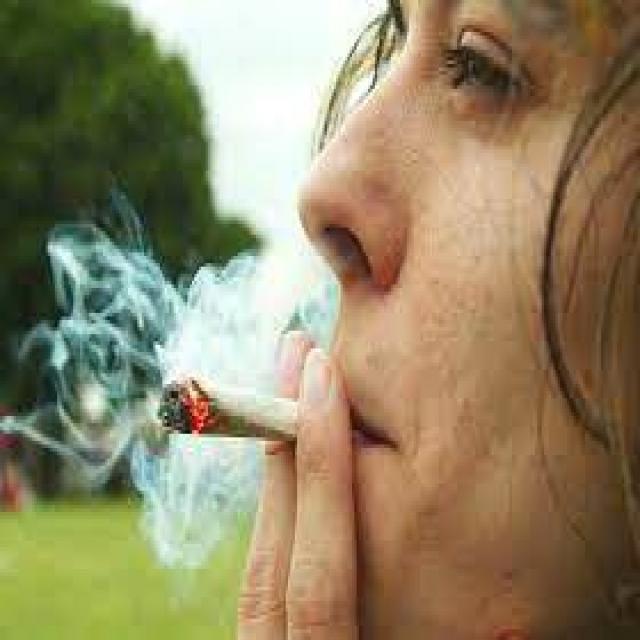smoke: (153, 366, 304, 452)
